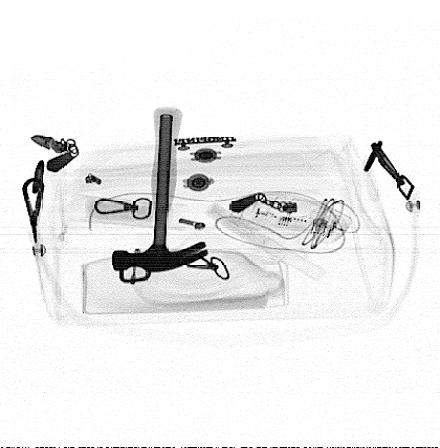Hammer: (111, 106, 210, 273)
